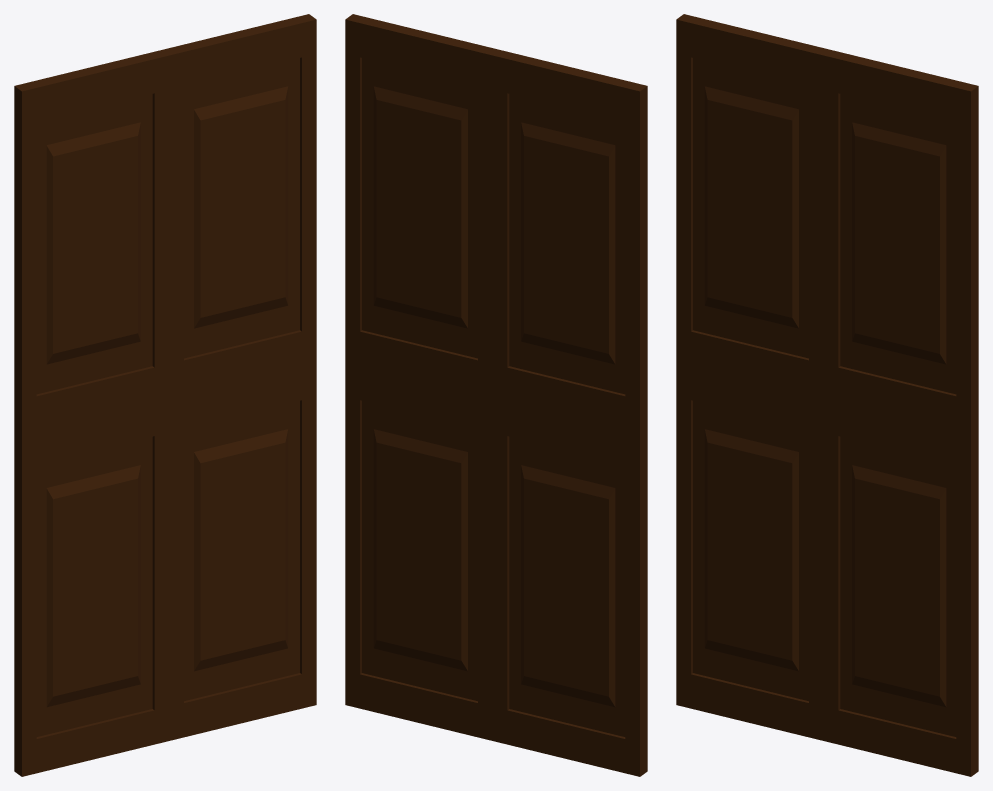
The picture shows the model from 3 angles, left to right: view 1: azimuth 30°, elevation 25°; view 2: azimuth 150°, elevation 25°; view 3: azimuth 330°, elevation 25°; orthographic projection.
Visible parts, largest first — view 1: door; view 2: door; view 3: door.
Part boxes in pixels (<box>): door: <box>14,14,316,776</box>; door: <box>345,14,647,776</box>; door: <box>676,14,978,776</box>.
Size of the model in its own units: 0.9 by 0.04 by 2.
